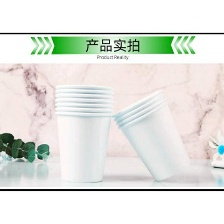paper_cup: (109, 86, 196, 186), (50, 79, 117, 186)
